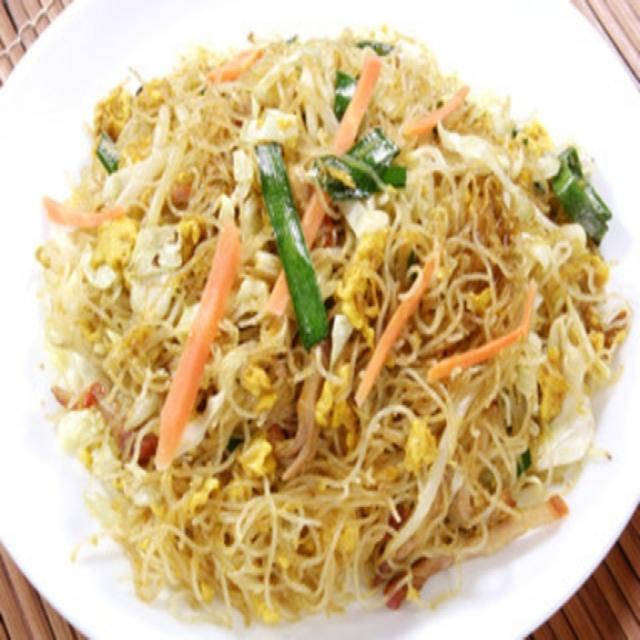熟制海鲜: (134, 59, 354, 590)
